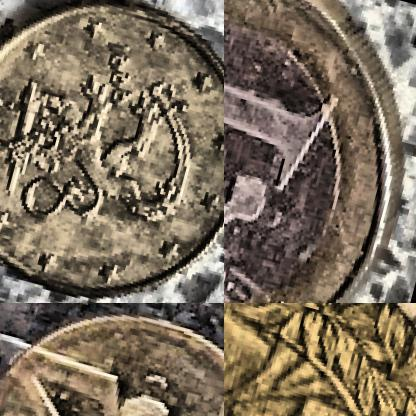coin: (0, 0, 223, 302), (224, 0, 415, 302), (0, 303, 223, 415), (224, 303, 415, 415)
